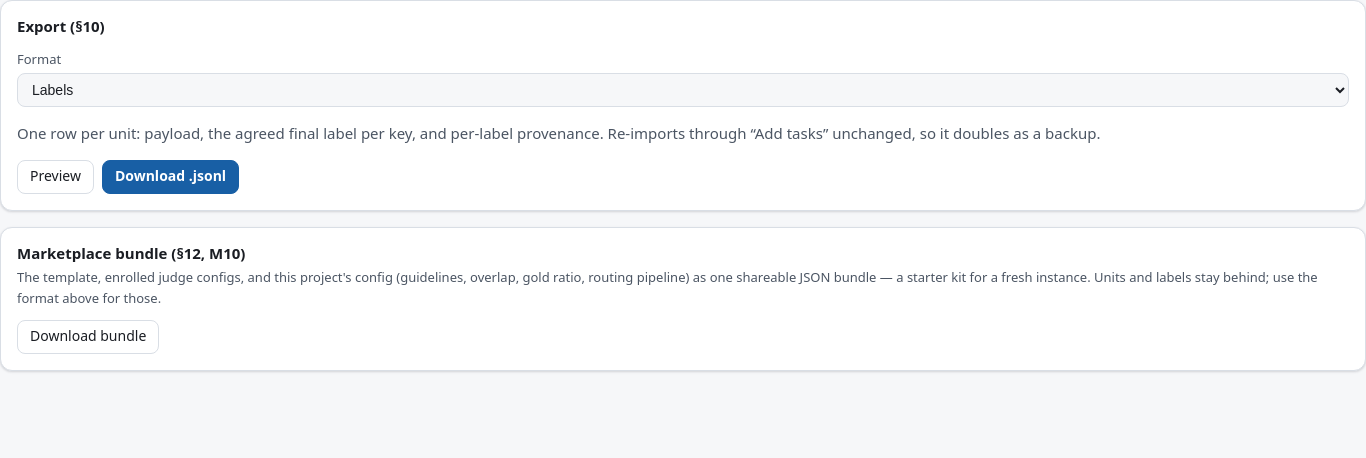
Test: ExportPanel bundle section › shows an error if the bundle export fails
Step 1. Click the button with test id "bundle-export-download" → click(88, 337), box [17, 320, 159, 354]
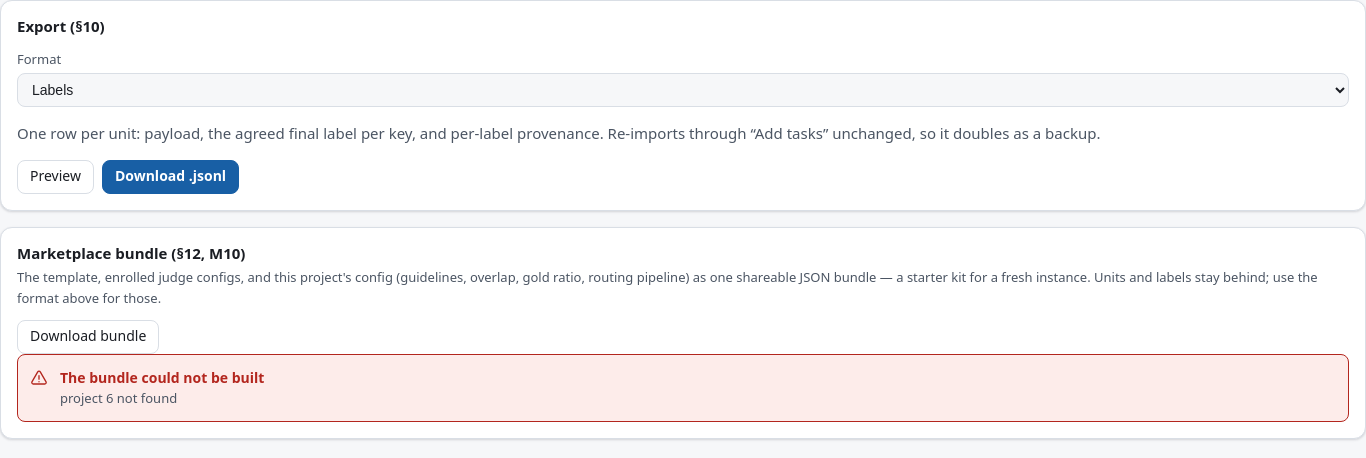
Check: the message with test id "bundle-export-error" shows "project 6 not found", box [60, 389, 177, 407]
